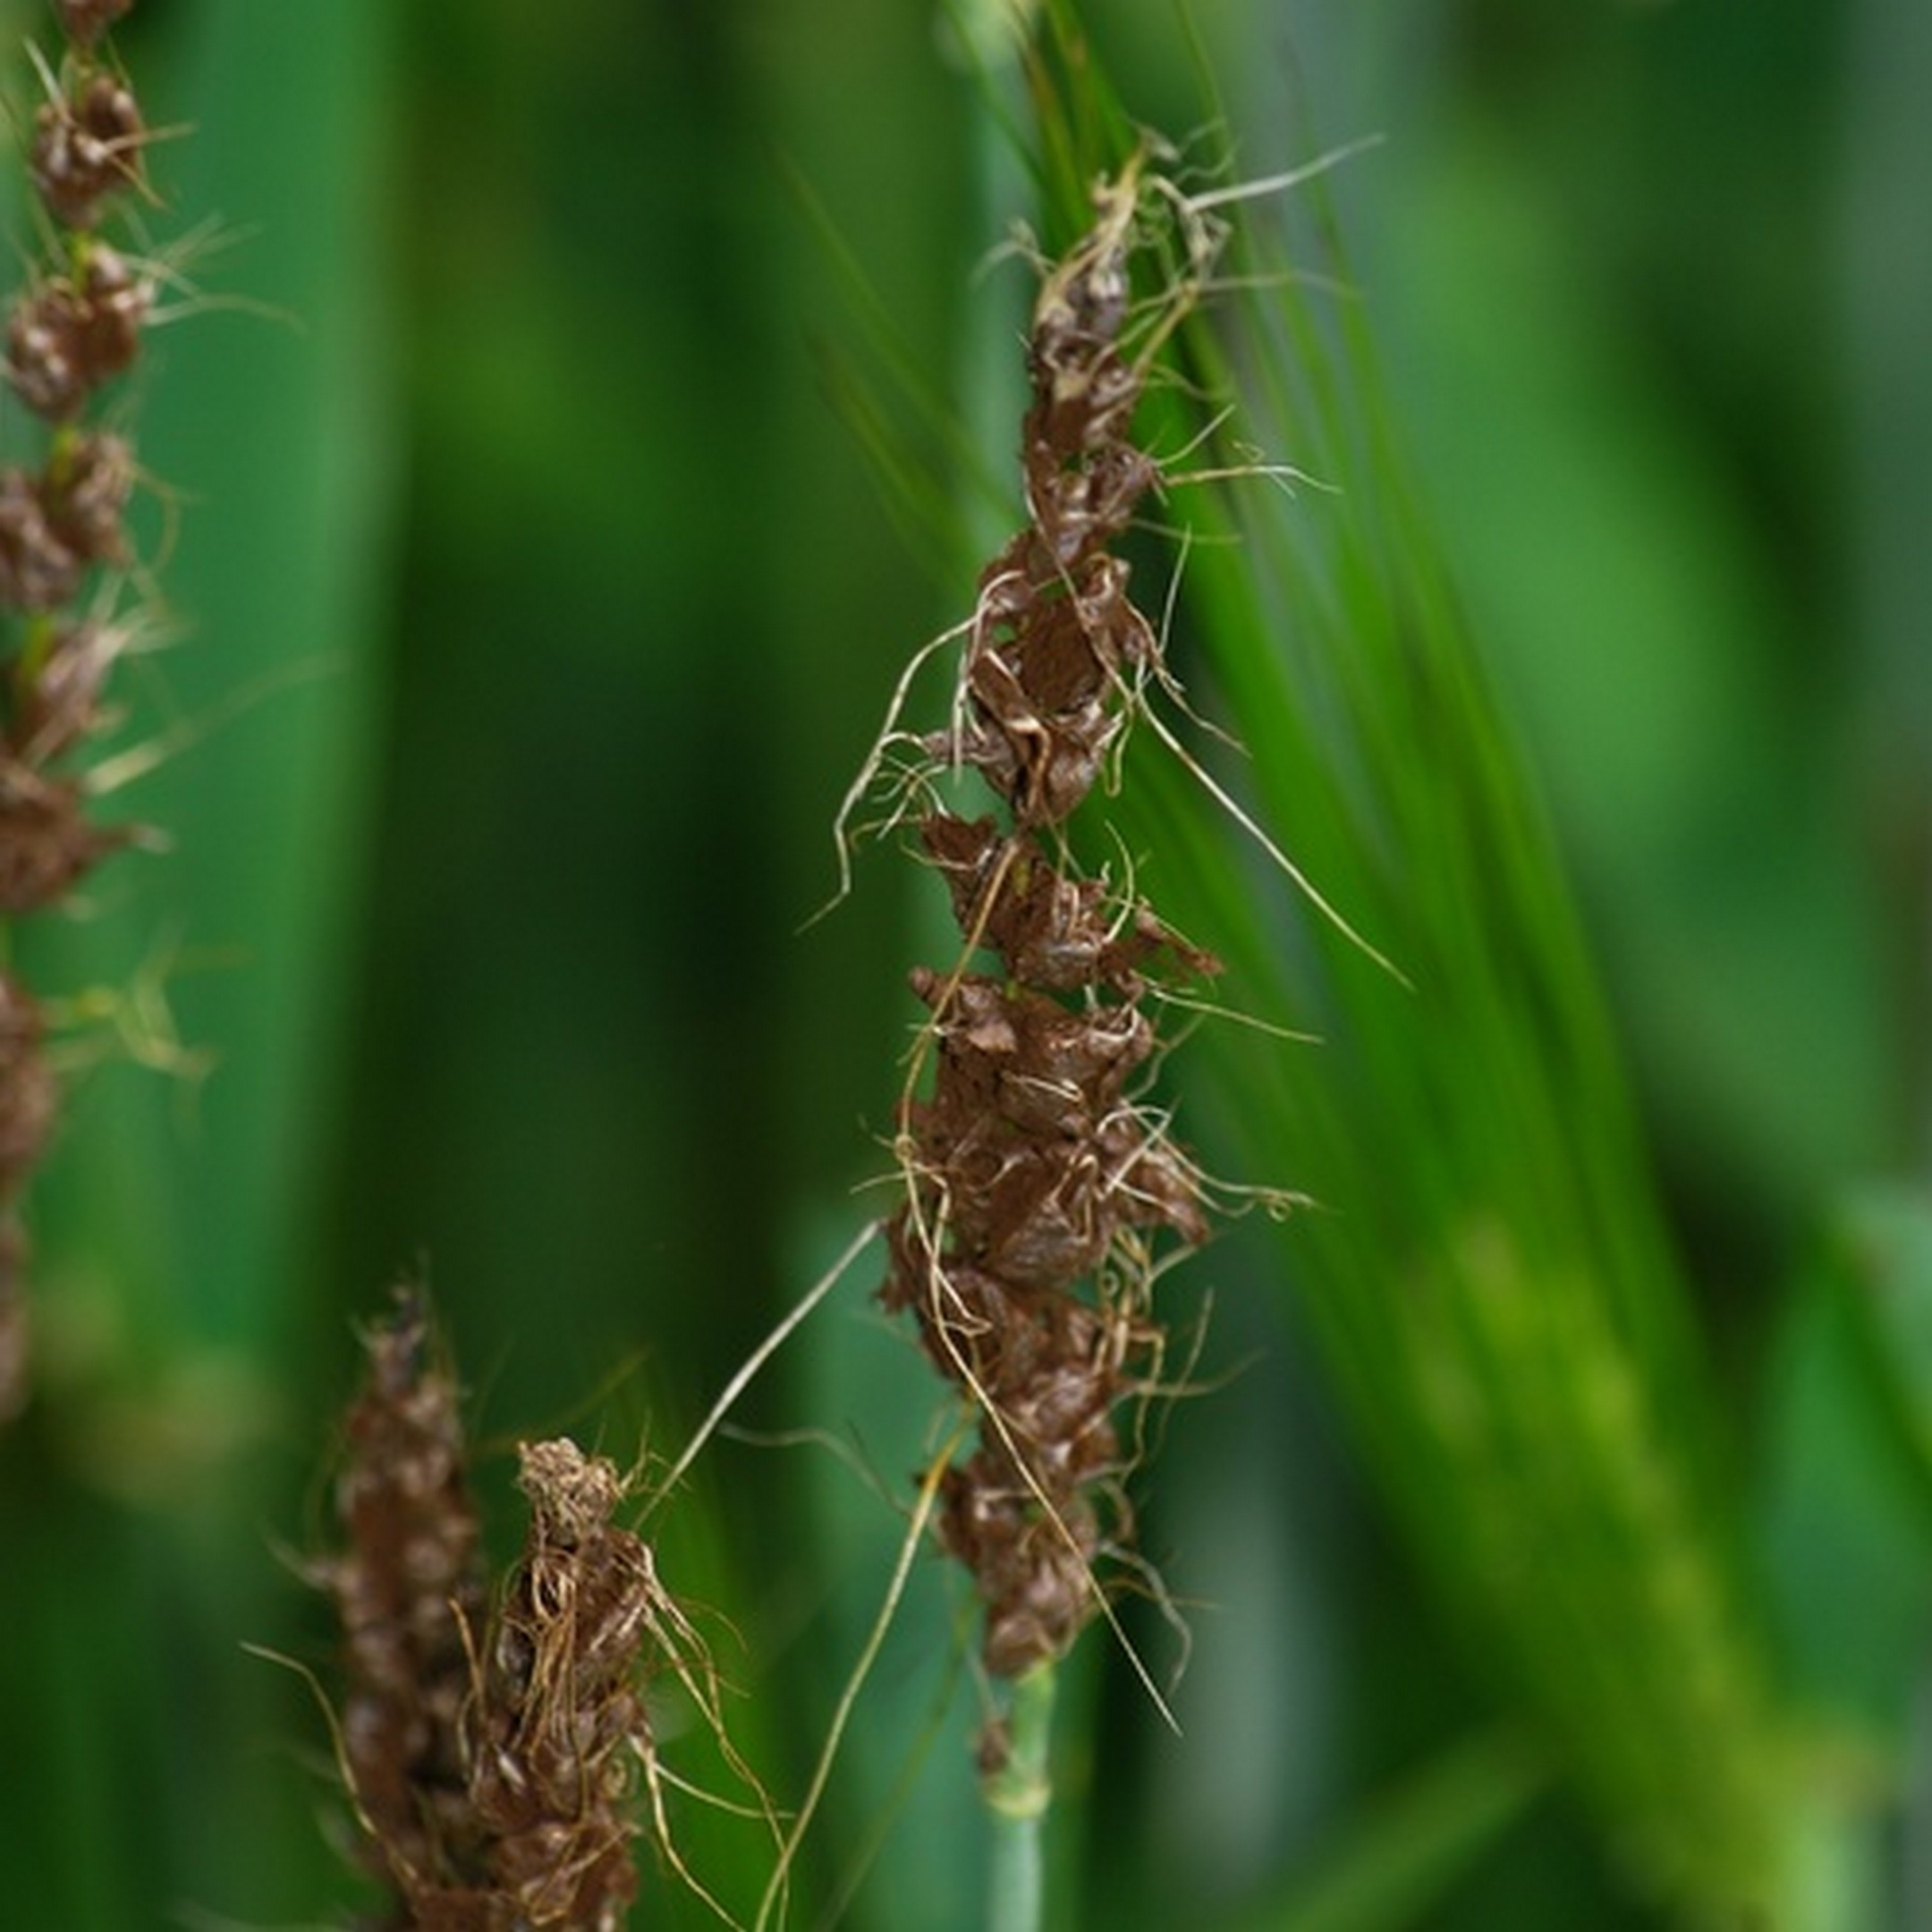Wheat Loose Smut: (869, 235, 1247, 1691)
